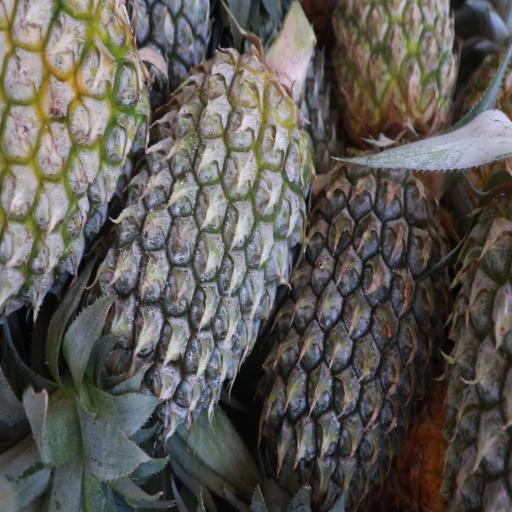------------------------------: (0, 0, 143, 300), (339, 0, 462, 137)
